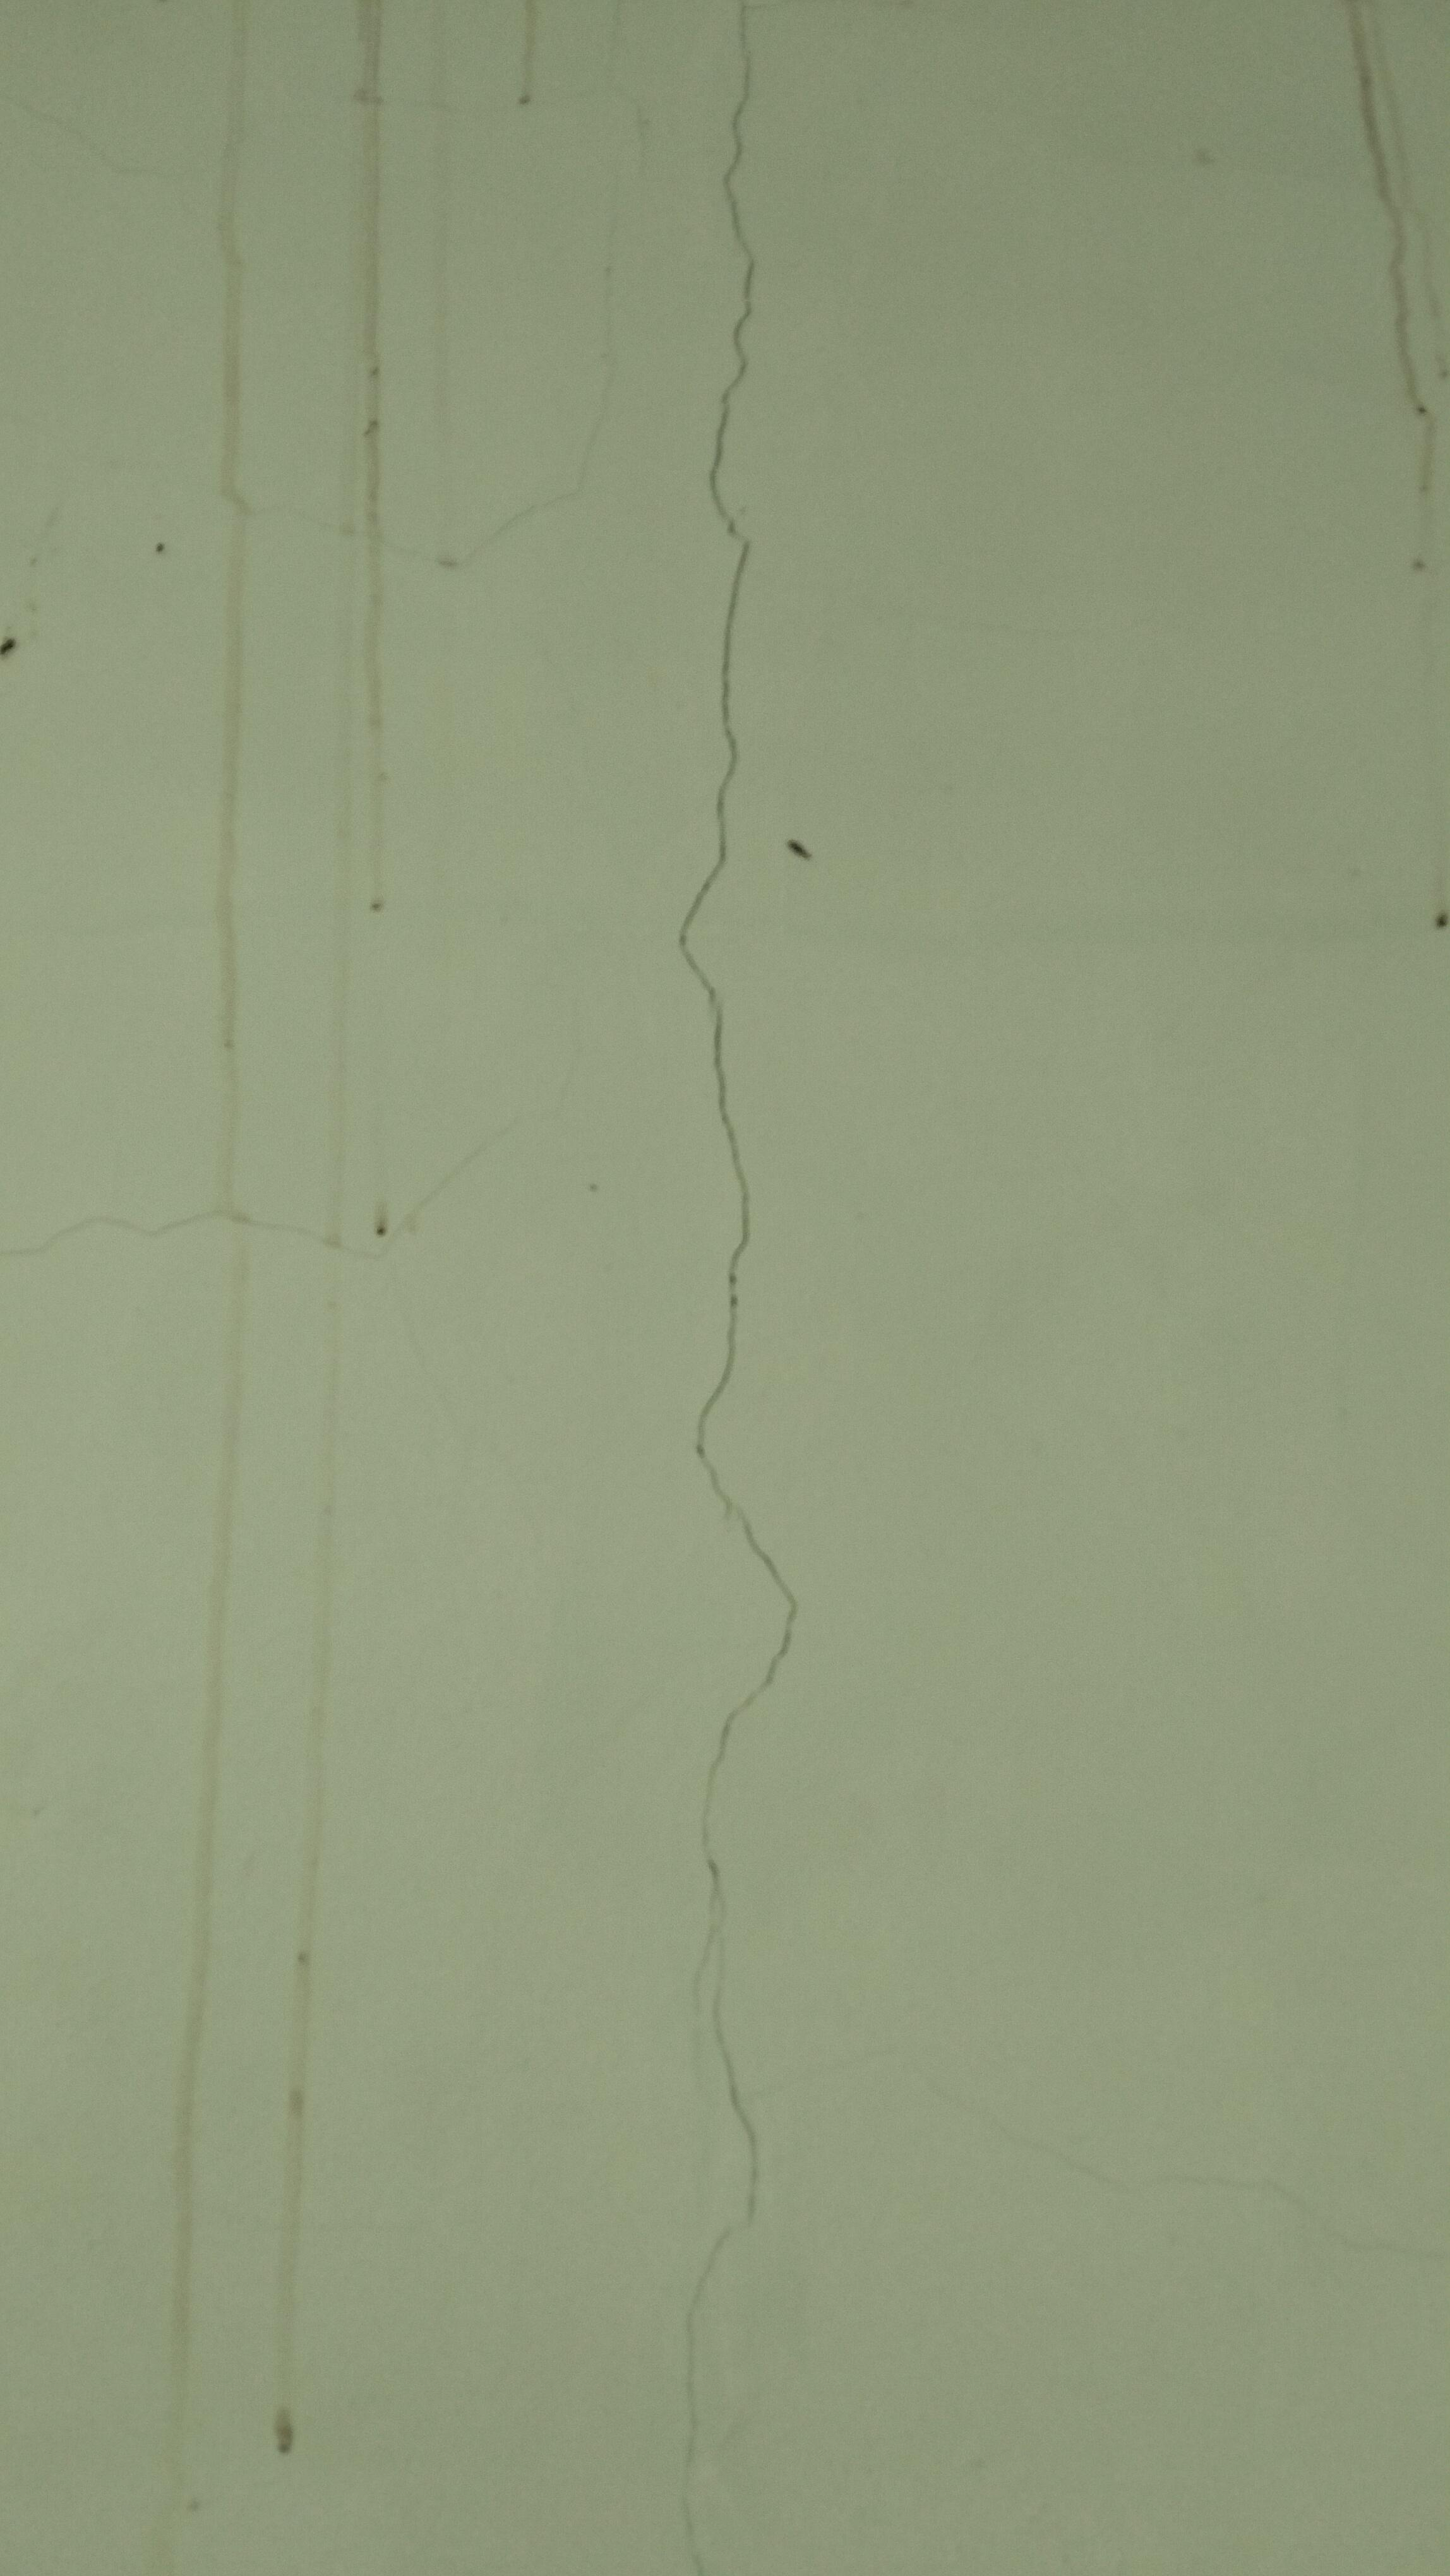Crack: (662, 0, 779, 1419), (682, 1401, 813, 2233), (667, 2217, 765, 2576)
